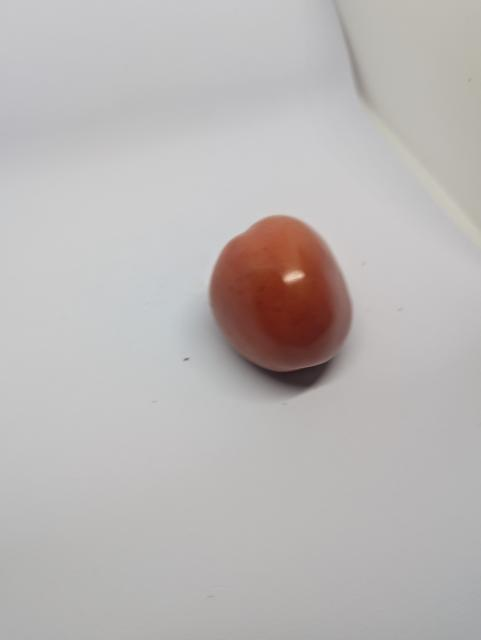red: (196, 201, 372, 387)
